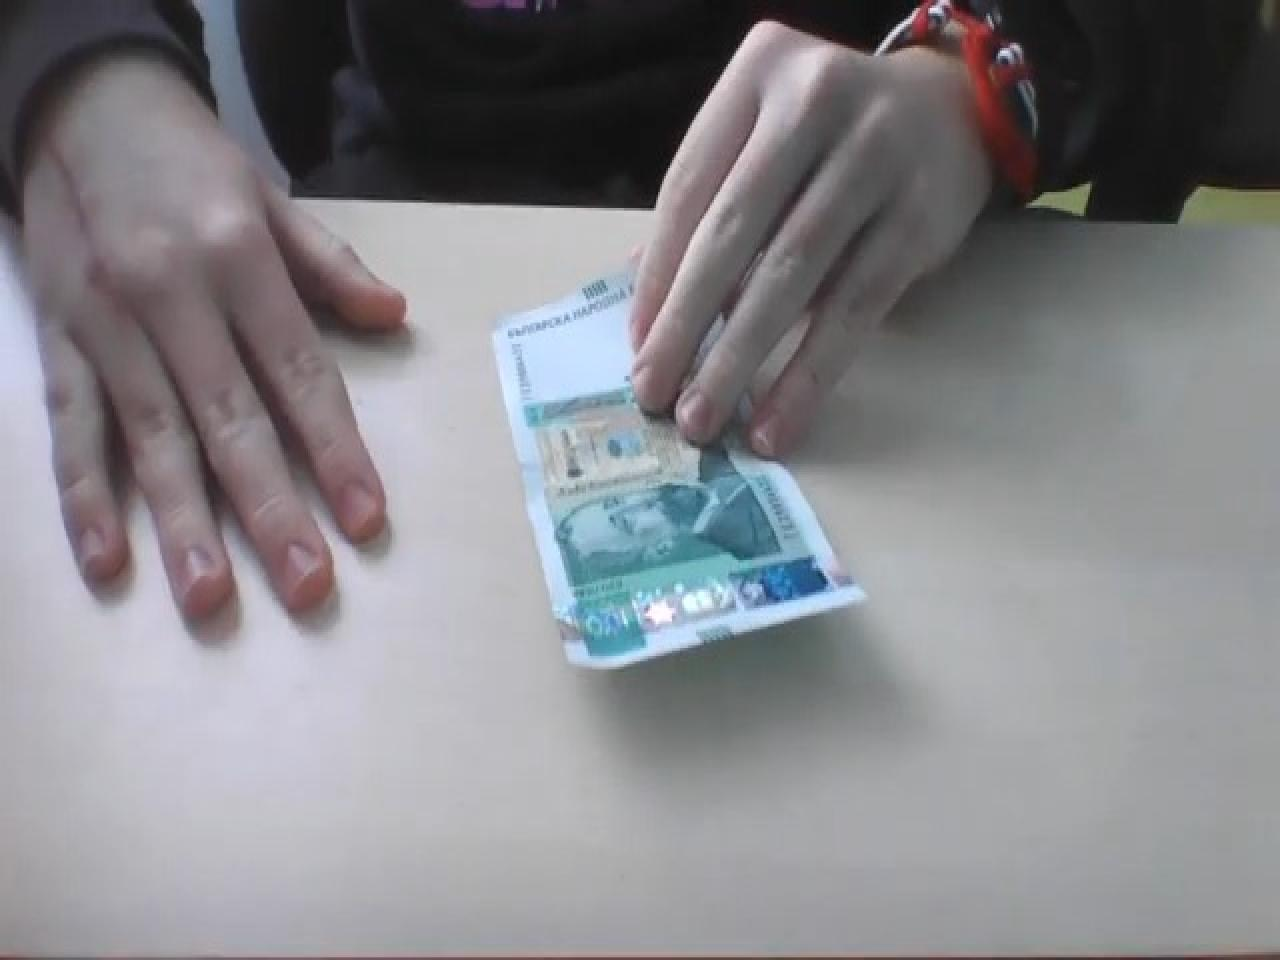100leva: (490, 264, 866, 672)
